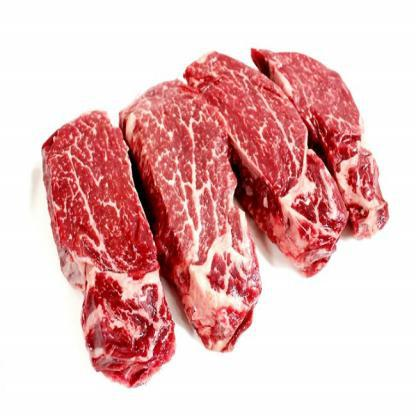beef: (108, 64, 256, 330), (35, 103, 169, 384), (185, 40, 329, 262), (260, 36, 386, 236)
